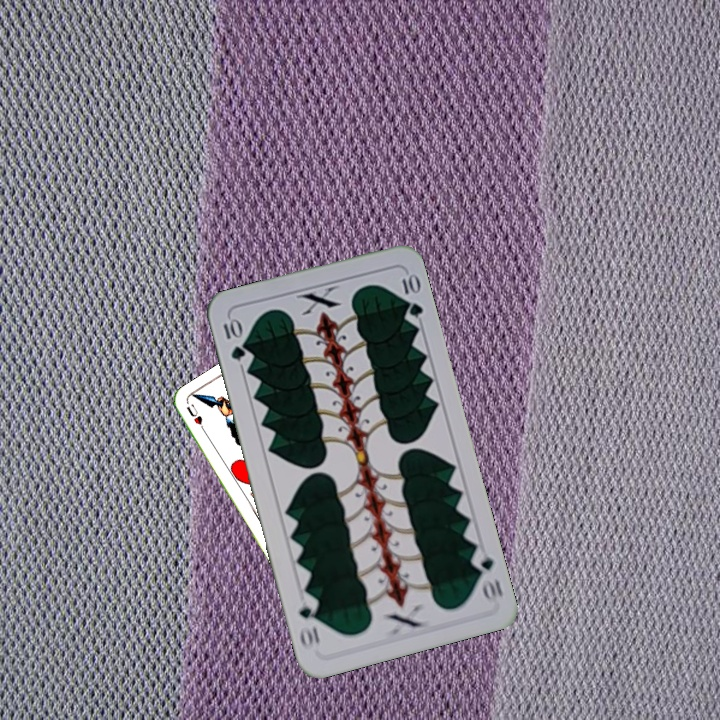G10: (467, 545, 506, 604), (219, 314, 248, 363)
HU: (182, 400, 210, 437)
